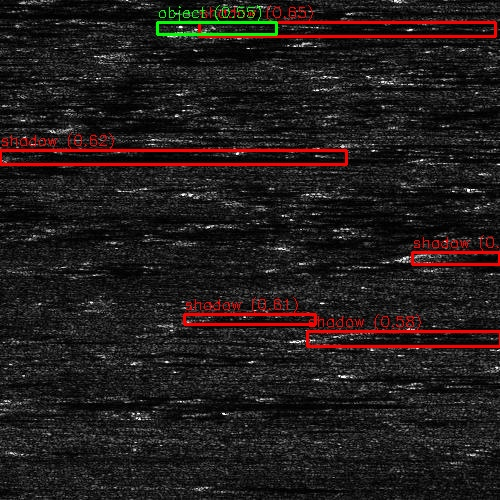rock: (264, 332, 369, 343), (167, 483, 292, 492), (270, 371, 385, 380), (378, 250, 471, 261), (95, 43, 158, 58), (0, 398, 82, 409), (161, 188, 266, 195), (0, 149, 54, 162), (155, 317, 218, 326), (285, 189, 358, 194), (182, 28, 245, 33), (36, 125, 99, 130), (420, 17, 473, 22), (284, 39, 337, 44), (307, 82, 348, 87), (318, 8, 359, 13), (187, 9, 218, 12), (25, 0, 66, 1)
shadow: (0, 5, 366, 18), (2, 149, 321, 162), (127, 43, 392, 58), (30, 398, 327, 409), (317, 332, 500, 343), (328, 371, 500, 380), (214, 28, 500, 33), (187, 317, 344, 326), (230, 483, 354, 492), (68, 125, 278, 130), (311, 39, 500, 44), (322, 189, 500, 194), (425, 250, 500, 261), (203, 9, 478, 12), (339, 8, 484, 13), (328, 82, 470, 87), (0, 482, 32, 497), (214, 188, 256, 195), (447, 17, 500, 22), (46, 0, 174, 1), (458, 263, 500, 266), (0, 189, 41, 192)
